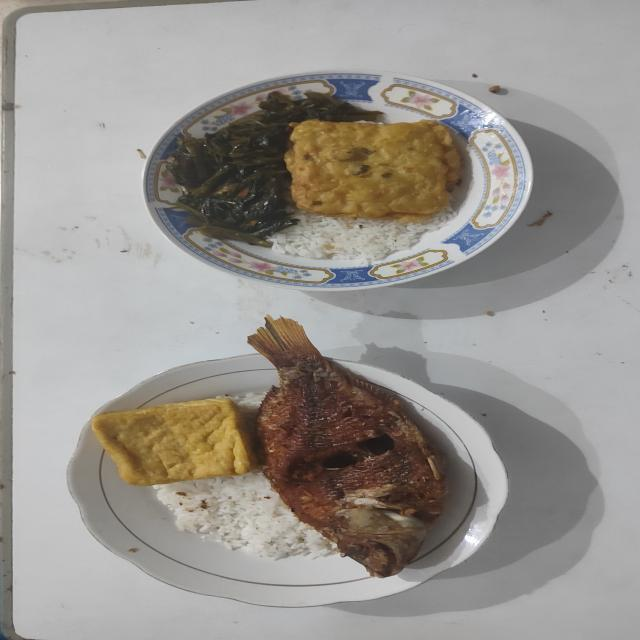ikan_mujair: (248, 318, 444, 578)
nasi_putih: (155, 472, 339, 560), (268, 202, 458, 266)
tahu_goreng: (92, 398, 256, 486)
tumis_kangkung: (166, 91, 382, 247)
